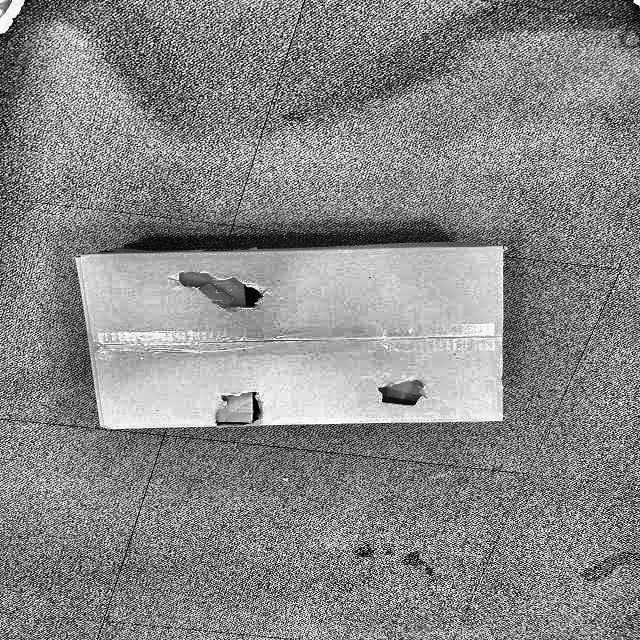box: (71, 234, 513, 439)
hole: (180, 270, 270, 311), (211, 392, 269, 424), (376, 378, 433, 409)
